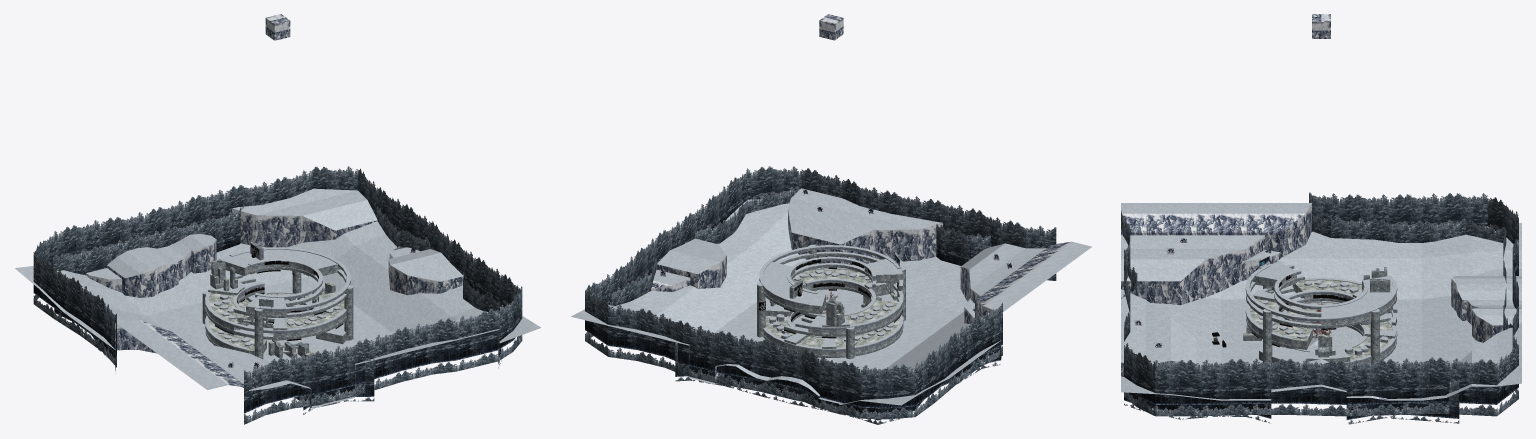
The model's file is bhop_xmas.obj.
The picture shows the model from 3 angles, left to right: view 1: azimuth 30°, elevation 25°; view 2: azimuth 150°, elevation 25°; view 3: azimuth 270°, elevation 25°; orthographic projection. The views are drawn at different scales.
Visible parts, largest first — view 1: *0, *47, *48; view 2: *0, *47, *48; view 3: *0, *47, *48.
Part boxes in pixels (box(x1,y1,x2,y2)): *0: box(15, 14, 540, 408); *47: box(33, 166, 522, 424); *48: box(53, 205, 501, 414); *0: box(571, 14, 1091, 405); *47: box(585, 166, 1056, 419); *48: box(611, 187, 1001, 424); *0: box(1121, 14, 1521, 400); *47: box(1121, 192, 1518, 416); *48: box(1121, 213, 1517, 424).
Size of the model in its own units: 123 by 111 by 123.
